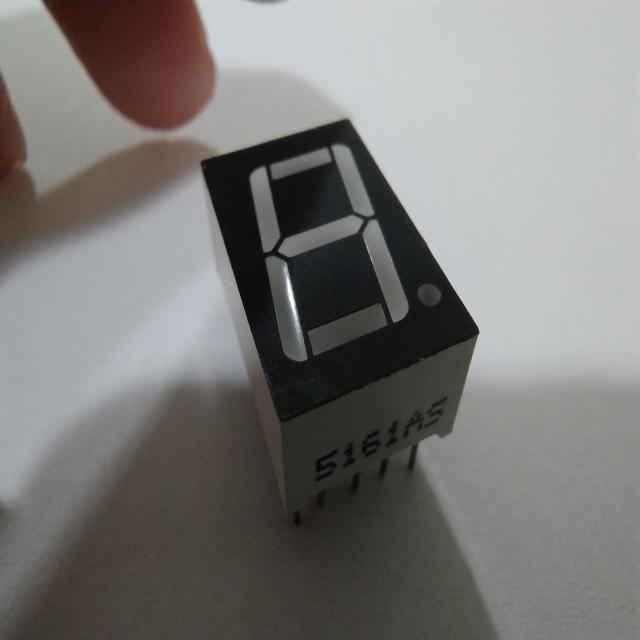7_segments: (187, 101, 488, 540)
